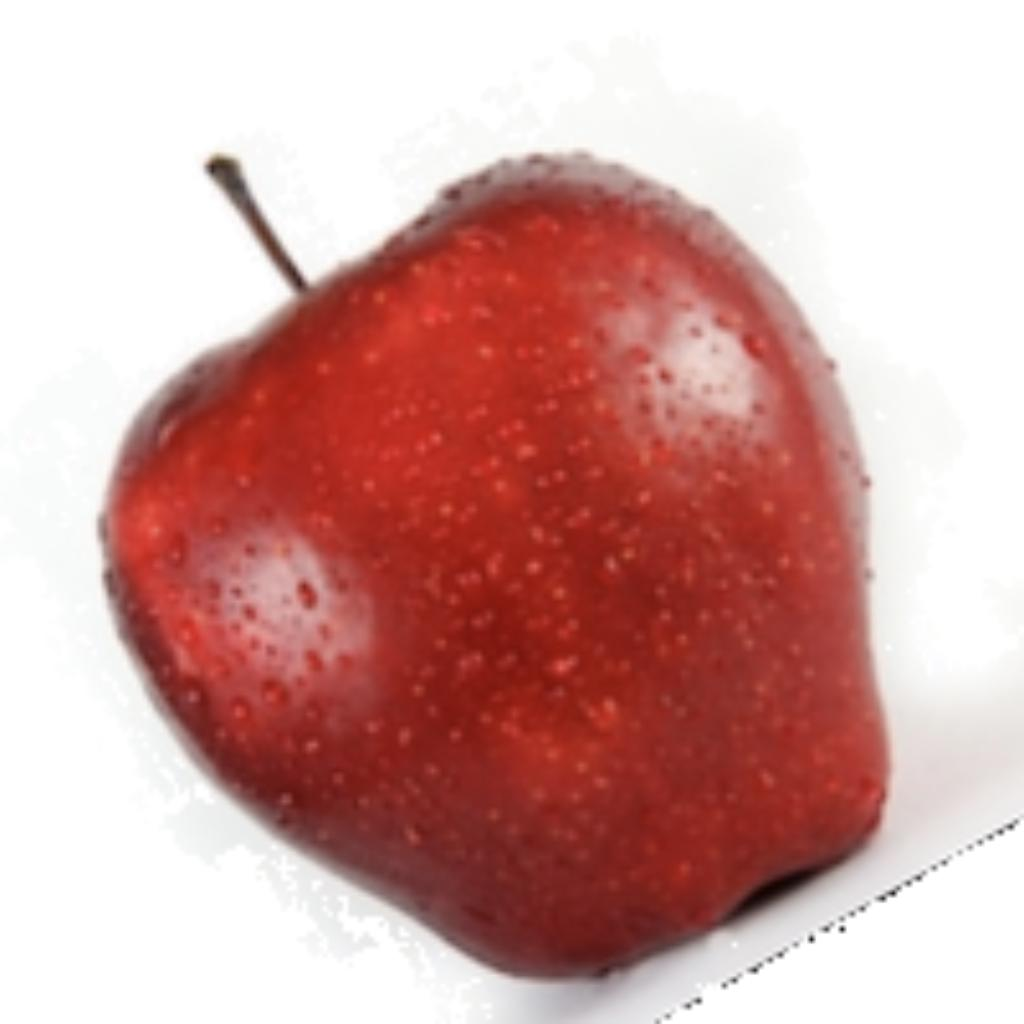apple: (87, 113, 1019, 1019)
